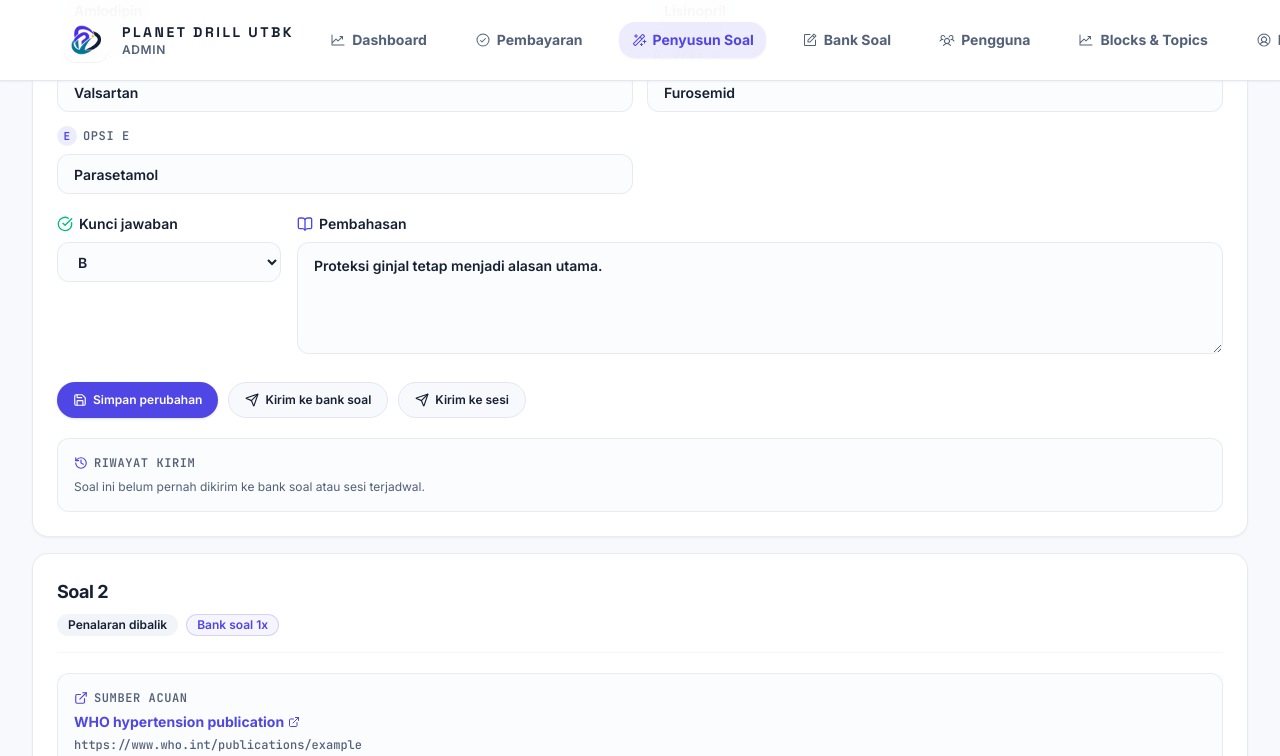
it: Admin question generator review page › delivers the same item once to bank soal and once to a scheduled event
(page scrolled)
Click the button "Kirim ke bank soal": (308, 400) [228,382,388,418]
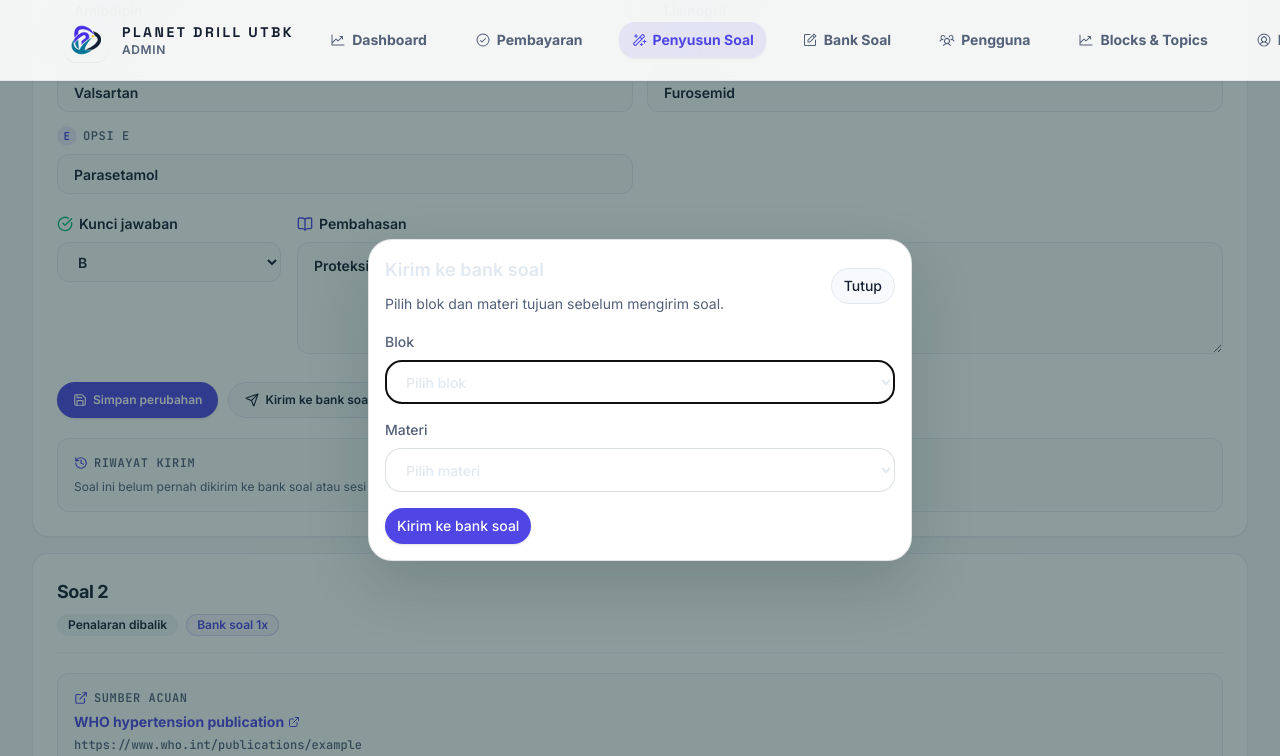
Select "Clinical Science" in the dropdown labelled "Blok": (640, 382) [385,360,895,404]
Select "Kardiologi" in the dropdown labelled "Materi": (640, 470) [385,448,895,492]
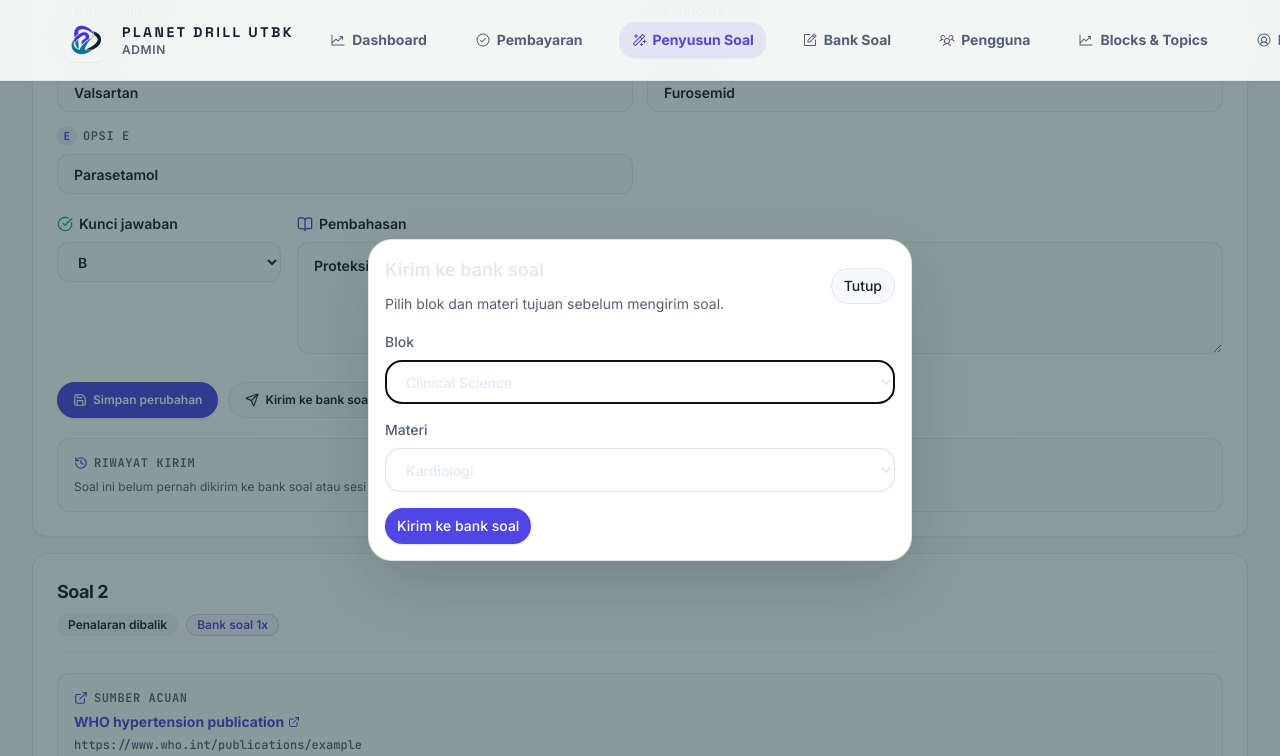
Click the button "Kirim ke bank soal": (458, 526) [385,508,531,544]
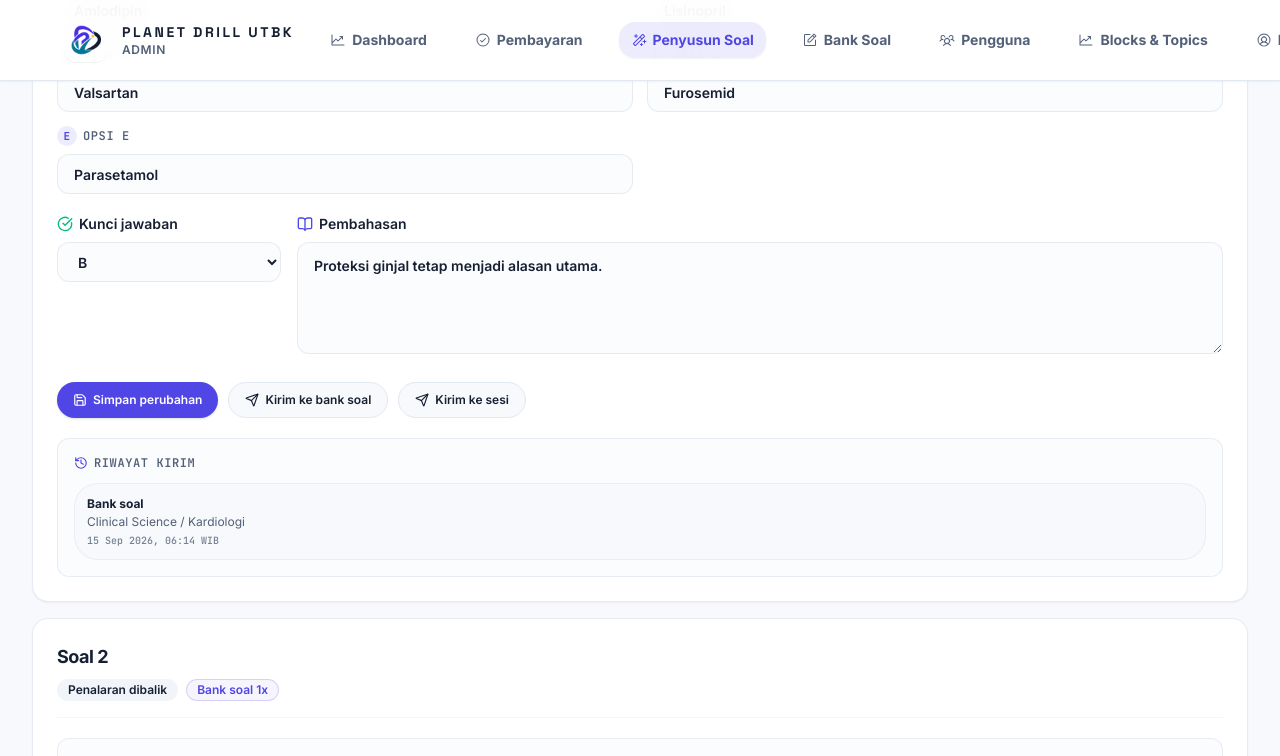
Click the button "Kirim ke sesi": (462, 400) [398,382,526,418]
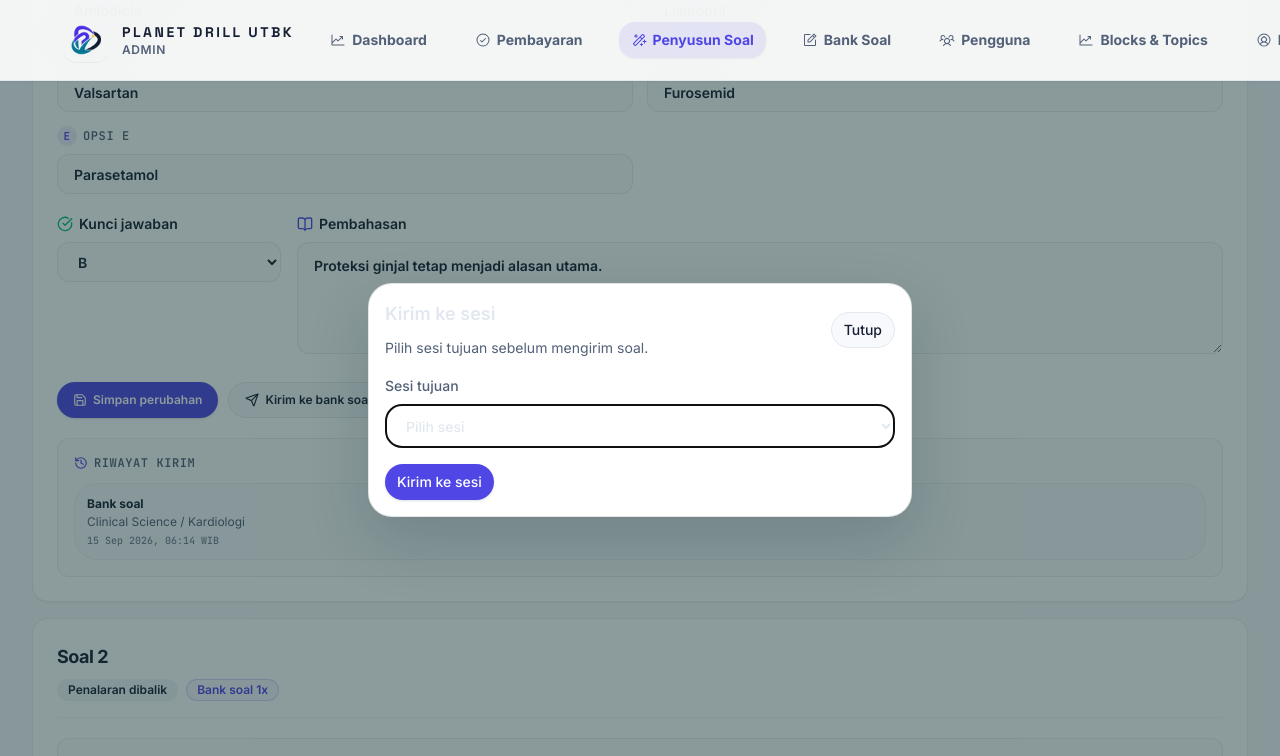
Select "TO Klinik Juni" in the dropdown labelled "Sesi tujuan": (640, 426) [385,404,895,448]
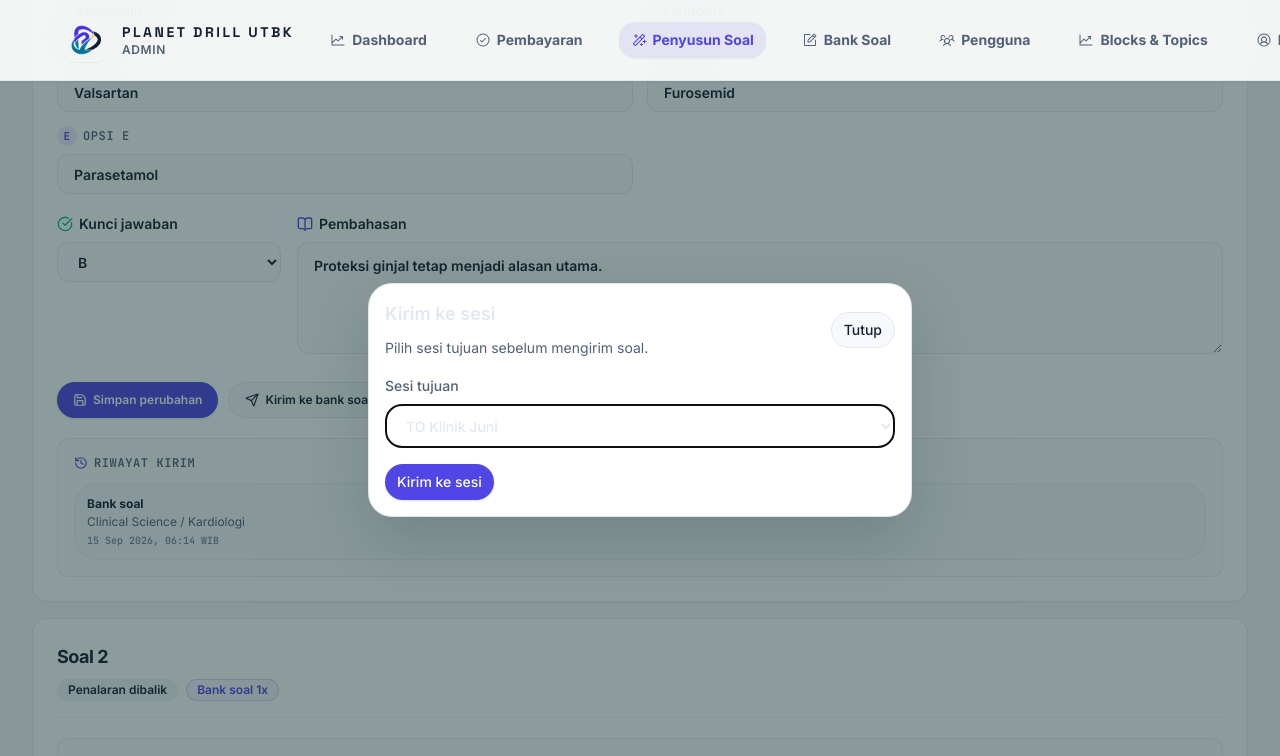
Click the button "Kirim ke sesi": (439, 482) [385,464,494,500]
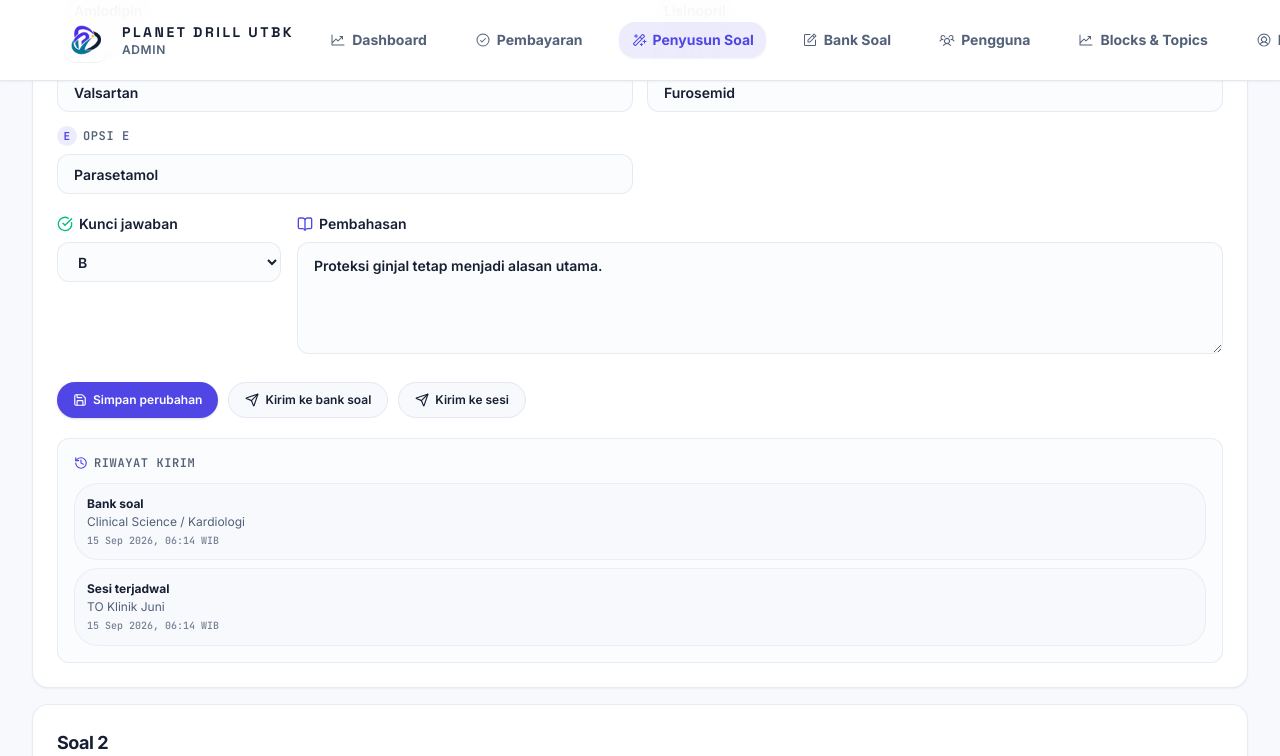
Check: the text "Clinical Science / Kardiologi" is shown 2 times
Check: the text "TO Klinik Juni" is shown, box [87,599,165,614]
